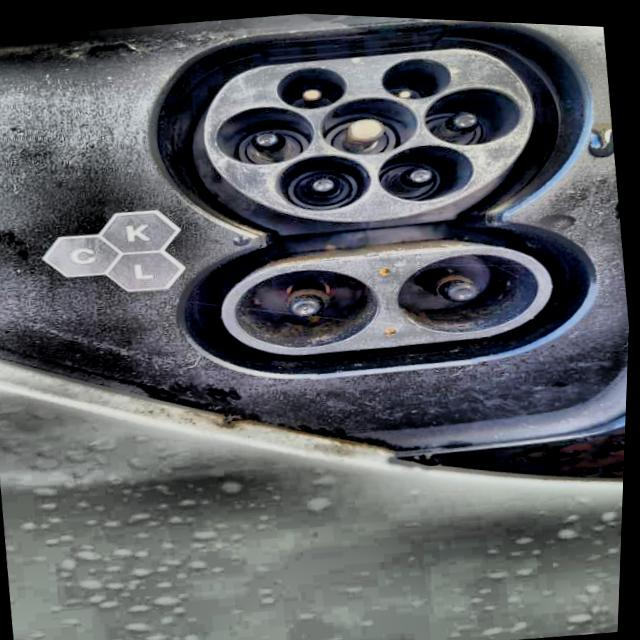inlet: (205, 44, 533, 218)
inlet-above-left: (277, 64, 348, 105)
inlet-above-right: (382, 54, 451, 95)
inlet-below-left: (277, 152, 372, 207)
inlet-below-right: (379, 140, 475, 198)
inlet-center: (319, 93, 418, 151)
inlet-center-left: (216, 103, 314, 162)
inlet-center-right: (425, 83, 521, 141)
